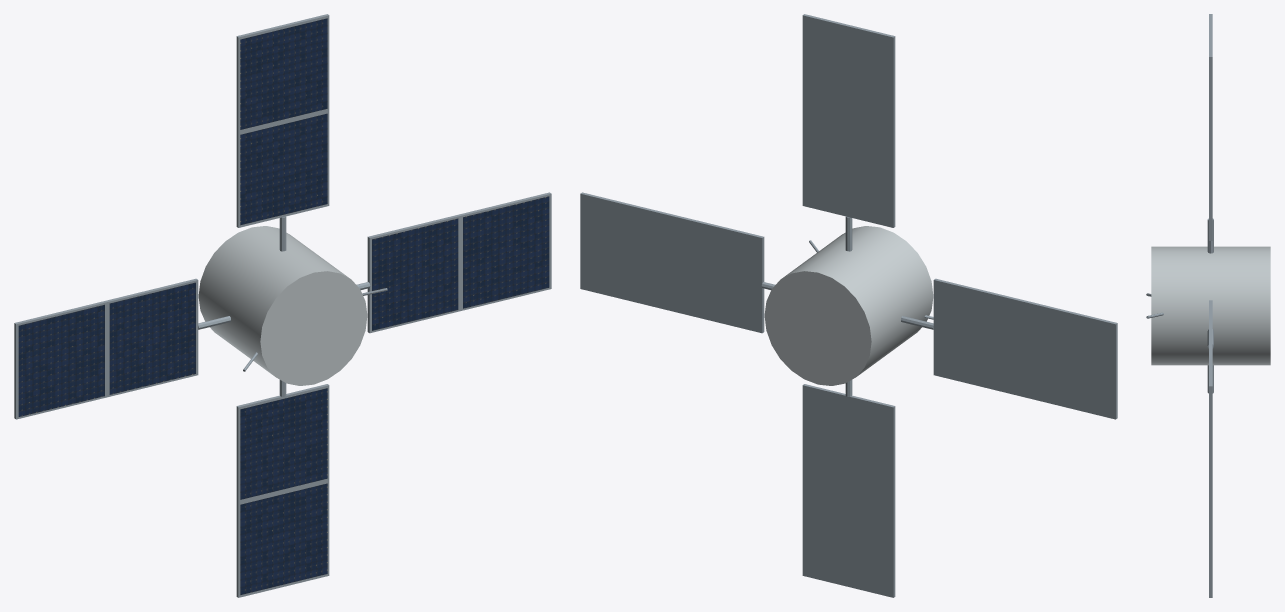
The model's file is ref-ariel-285.glb.
3 views of the same model, side by side, from view 1: azimuth 30°, elevation 25°; view 2: azimuth 150°, elevation 25°; view 3: azimuth 270°, elevation 25° (orthographic). The views are drawn at different scales.
Parts seen in each view (by area): view 1: Photovoltaic laminates (×8), Spacecraft body, Array frame (×8); view 2: Array frame (×8), Spacecraft body; view 3: Spacecraft body, Array frame (×4).
Part boxes in pixels (<box>): Photovoltaic laminates (×8): <box>18,18,549,594</box>; Spacecraft body: <box>198,226,367,385</box>; Array frame (×8): <box>14,14,551,597</box>; Array frame (×8): <box>580,14,1117,597</box>; Spacecraft body: <box>764,226,933,385</box>; Spacecraft body: <box>1151,246,1270,365</box>; Array frame (×4): <box>1209,14,1212,597</box>.
Bounding box in the file's own units: 3 × 3 × 0.6239.
3 materials, 1 textured.
